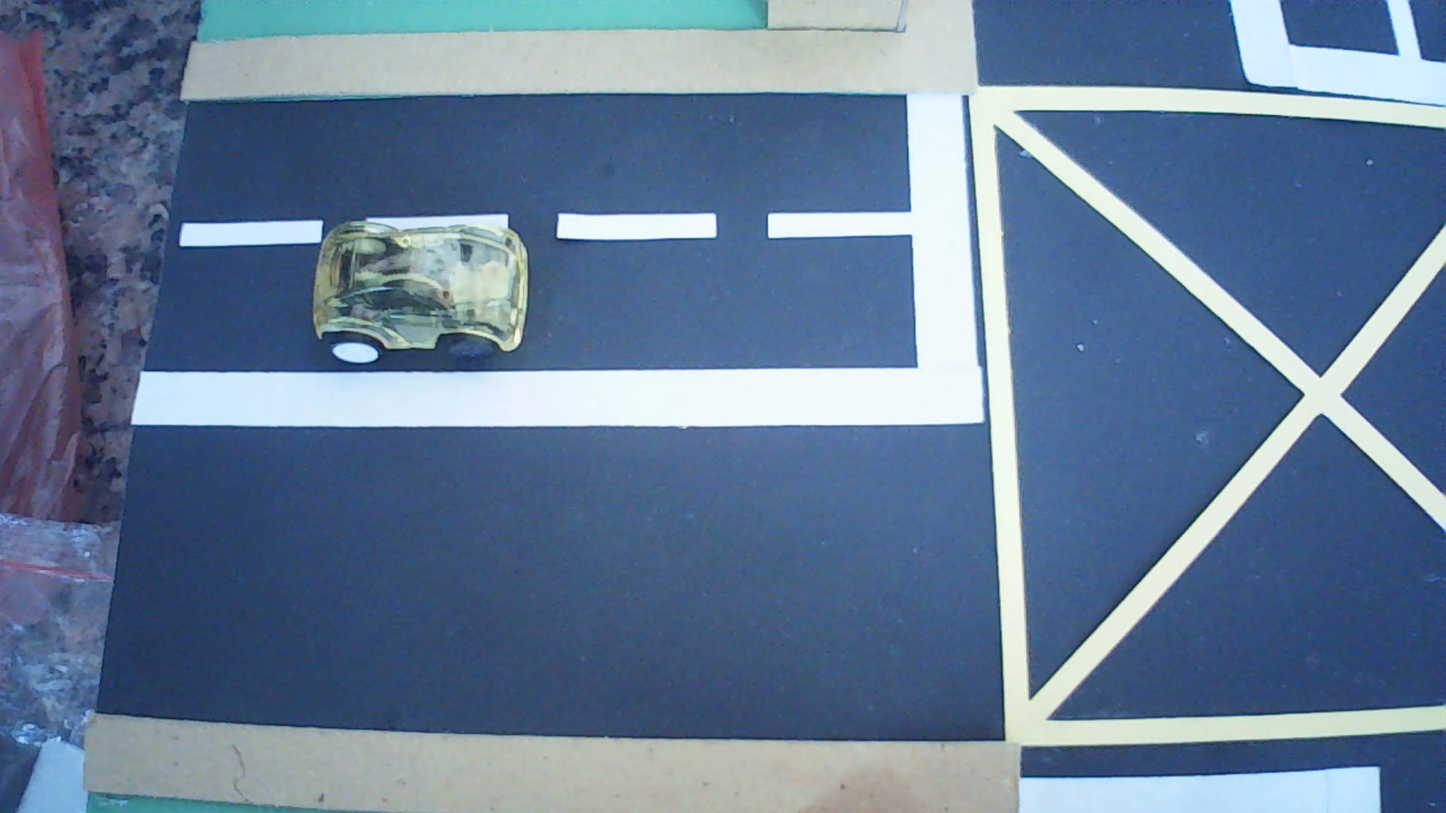Mobil kuning: (313, 221, 527, 363)
